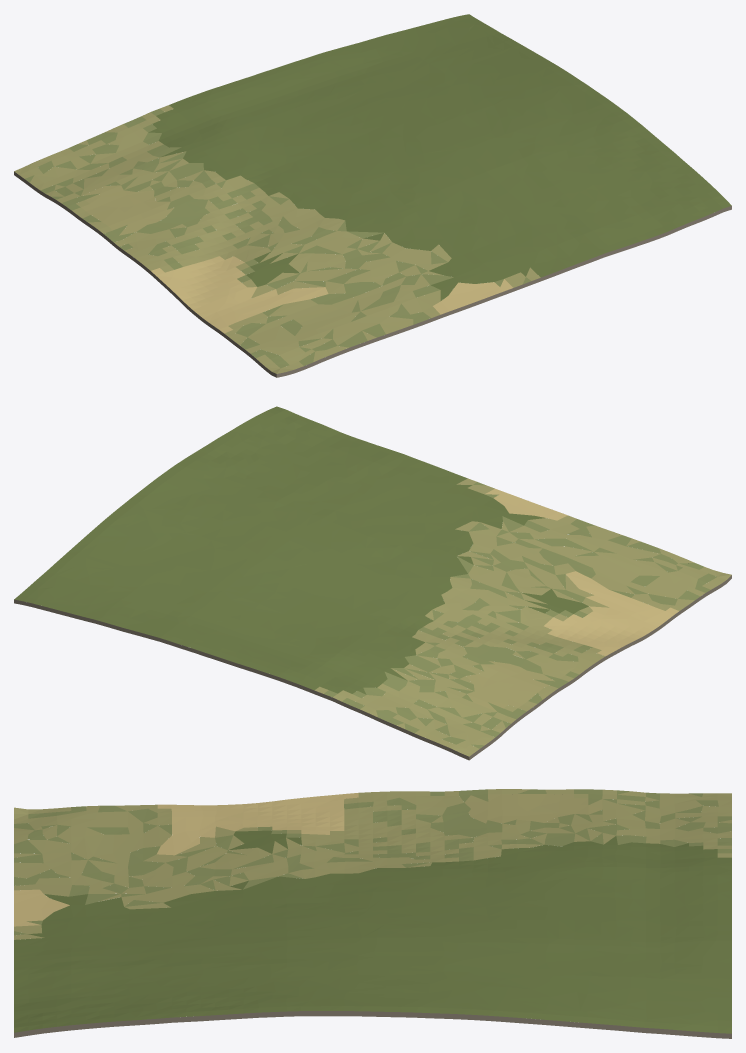
The model's file is parca_+4_+0-uzak.glb.
3 renders of one model, top to bottom at view 1: azimuth 30°, elevation 25°; view 2: azimuth 150°, elevation 25°; view 3: azimuth 270°, elevation 25°, orthographic. The views are drawn at different scales.
Visible parts, largest first — view 1: parca_+4_+0_arazi_uzak; view 2: parca_+4_+0_arazi_uzak; view 3: parca_+4_+0_arazi_uzak.
Part boxes in pixels (<box>): parca_+4_+0_arazi_uzak: <box>14,14,731,377</box>; parca_+4_+0_arazi_uzak: <box>14,406,731,760</box>; parca_+4_+0_arazi_uzak: <box>14,789,731,1038</box>.
Size of the model in its own units: 1000 by 165 by 1000.
